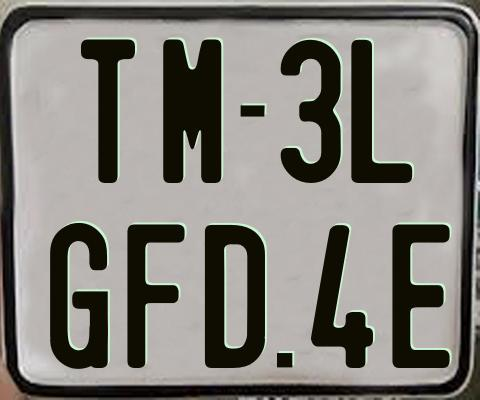3: (278, 37, 343, 185)
4: (309, 225, 375, 368)
D: (205, 222, 270, 370)
E: (390, 224, 453, 368)
F: (125, 221, 189, 370)
G: (50, 222, 112, 371)
L: (351, 40, 414, 186)
M: (162, 37, 221, 183)
T: (80, 36, 137, 186)
